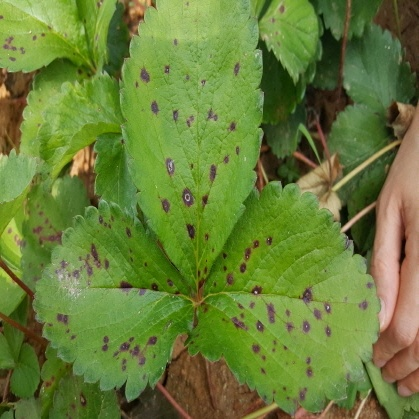Leaf_Spot: (37, 180, 235, 418), (154, 0, 301, 299), (196, 201, 387, 405), (92, 174, 418, 292), (37, 59, 401, 158), (45, 345, 384, 418), (93, 0, 418, 74), (100, 0, 261, 88), (118, 375, 372, 418)
